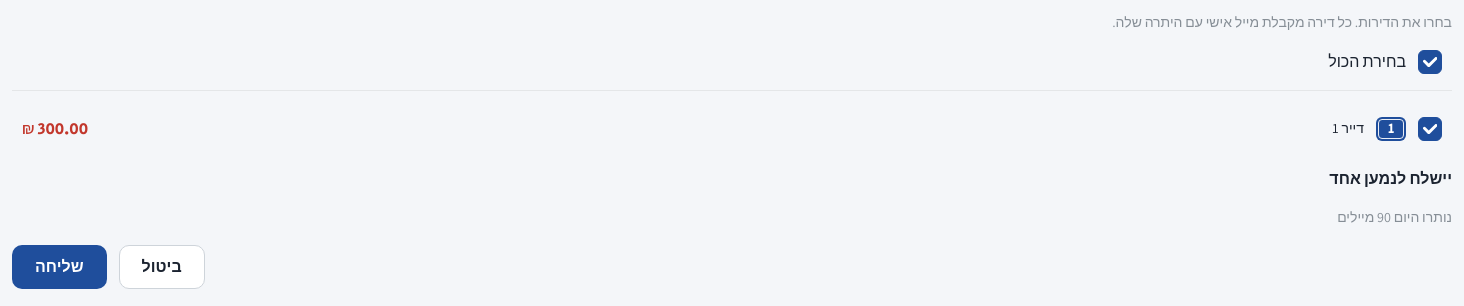
Test: DebtBulkForm › unchecking all disables sending
Expected: the text "יישלח לנמען אחד" is shown, [1329,168,1452,189]
Step 1. Click the checkbox labelled "בחירת הכול" → (1430, 62), box [1418,50,1442,74]
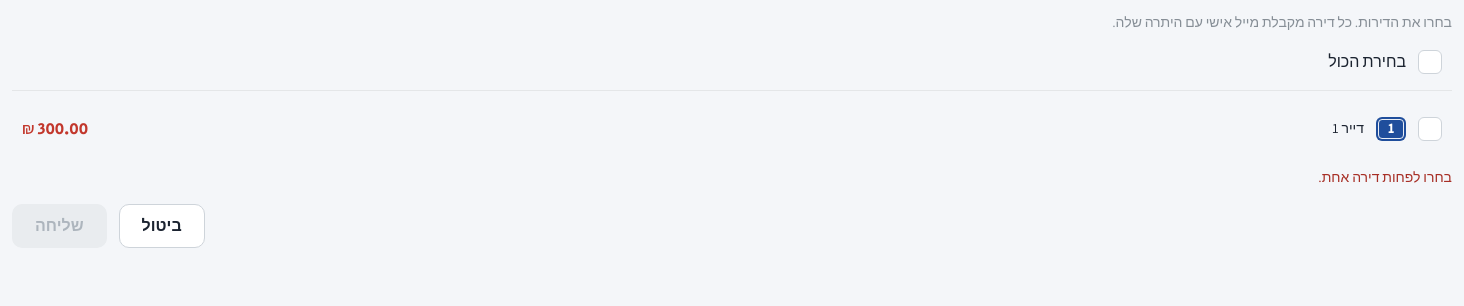
Expected: the text "בחרו לפחות דירה אחת." is shown, [1318,168,1452,186]
Expected: the button "שליחה" is disabled, [12,204,107,248]
